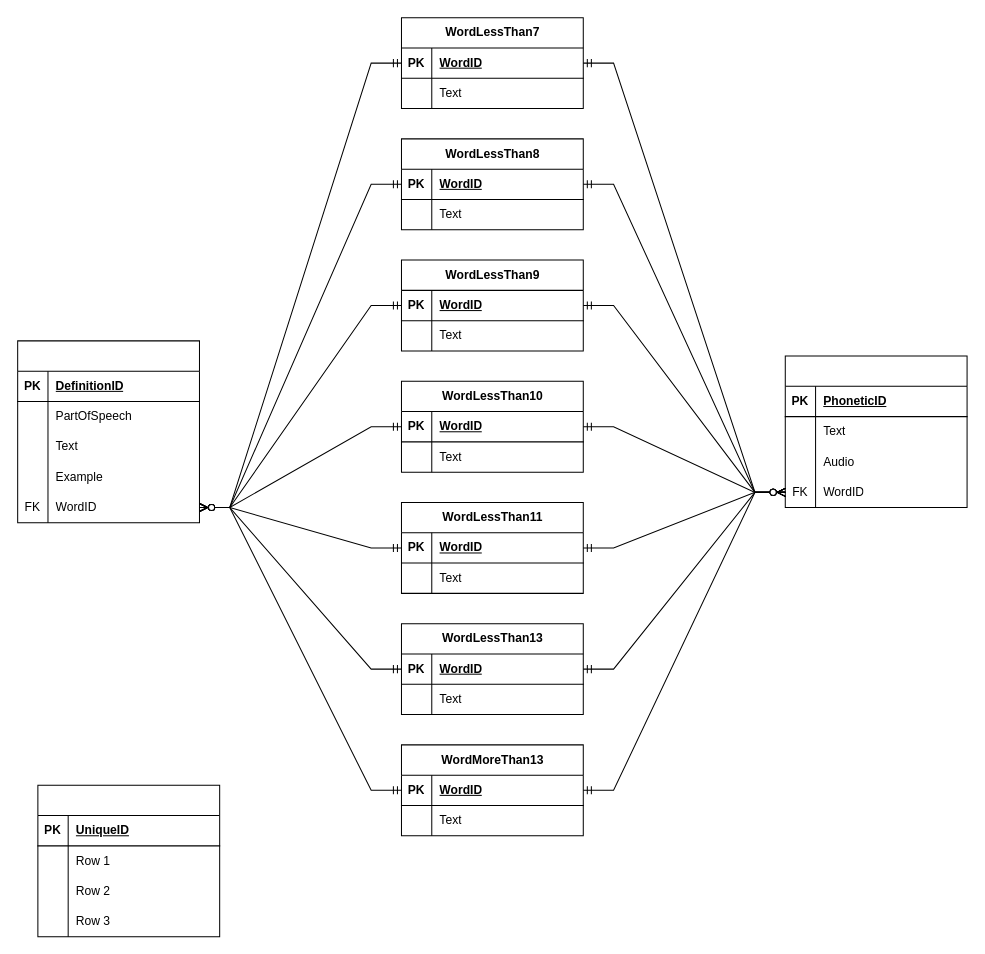
Some shapes in this 985 by 954 pixel diagram are drawn without their labels. The shapes that lost their labels are listed below. From the top down, each one's box as (x1, y1, x2, y2) in pixels, then its label:
(17, 340, 199, 523): Definitions
(784, 355, 967, 508): Phonetics
(37, 784, 220, 937): Table
